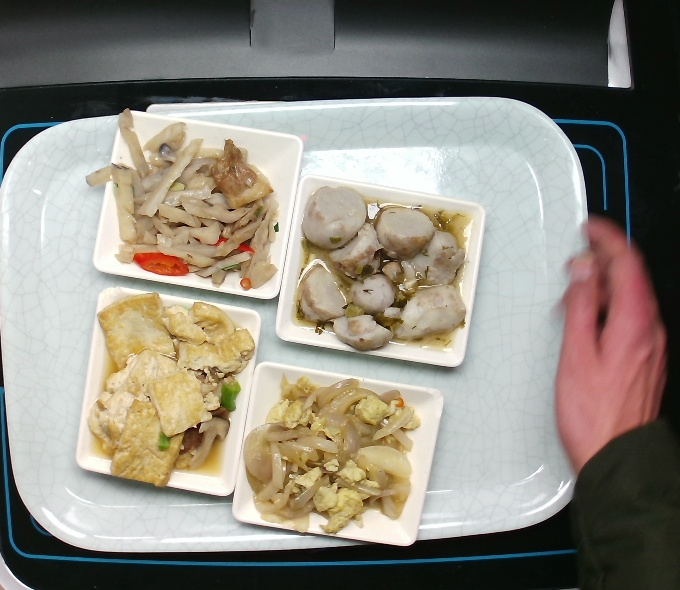wcq-JiaChangDouFu: (80, 292, 257, 500)
wcq-QingChaoOuPian: (88, 107, 281, 302)
wcq-YangCongChaoDan: (235, 370, 426, 540)
wcq-YangYu: (290, 183, 471, 358)
